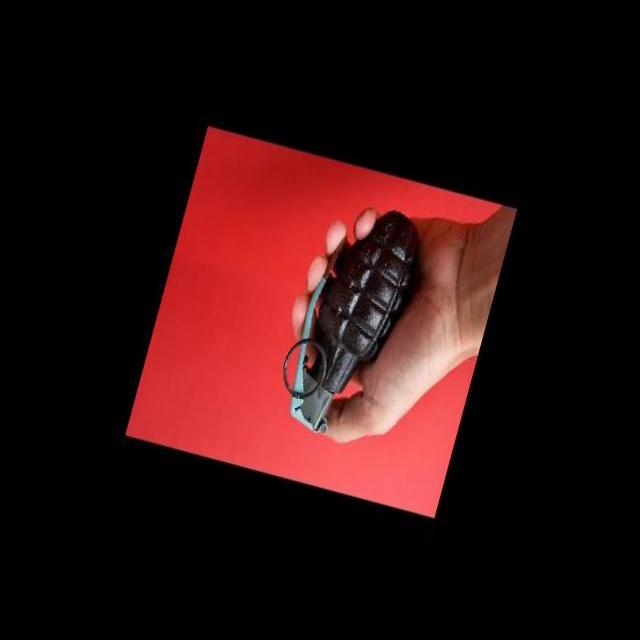grenade: (265, 180, 440, 458)
